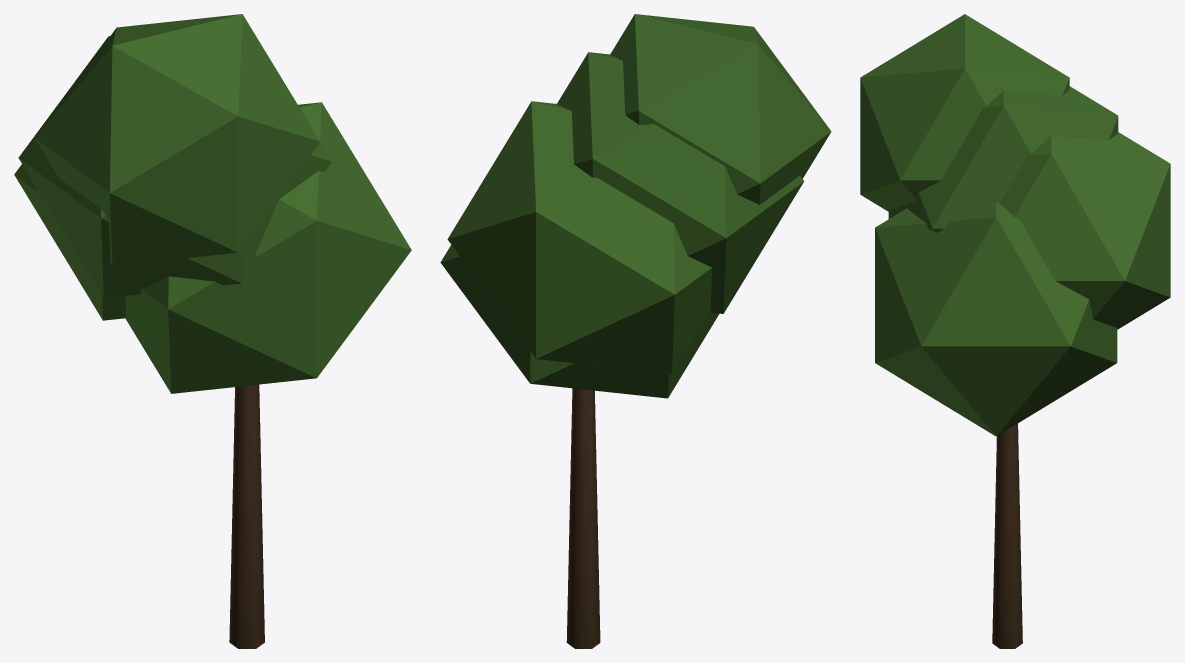
Rendered from arvore_folhosa.glb.
3 views of the same model, side by side, from view 1: azimuth 30°, elevation 25°; view 2: azimuth 150°, elevation 25°; view 3: azimuth 270°, elevation 25° (orthographic). The views are drawn at different scales.
Parts seen in each view (by area): view 1: arvore_folhosa_liso; view 2: arvore_folhosa_liso; view 3: arvore_folhosa_liso.
Boxes of the visible parts, box(x1,y1,x2,y2) form: arvore_folhosa_liso: box(14, 14, 411, 648); arvore_folhosa_liso: box(440, 14, 831, 648); arvore_folhosa_liso: box(860, 14, 1170, 648).
Bounding box in the file's own units: 4.08 × 8.11 × 4.06.
